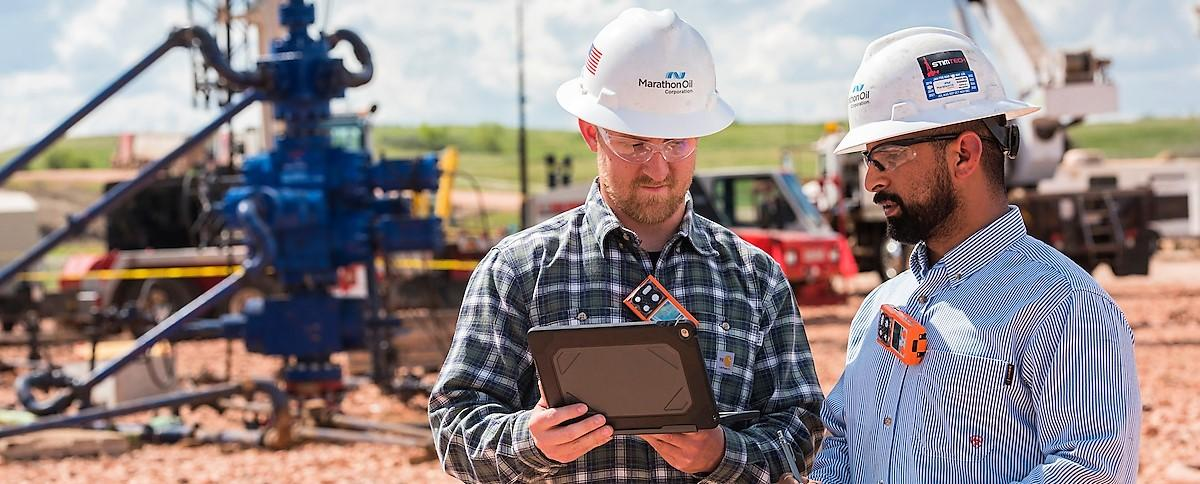helmet: (833, 29, 1040, 155), (564, 8, 740, 142)
